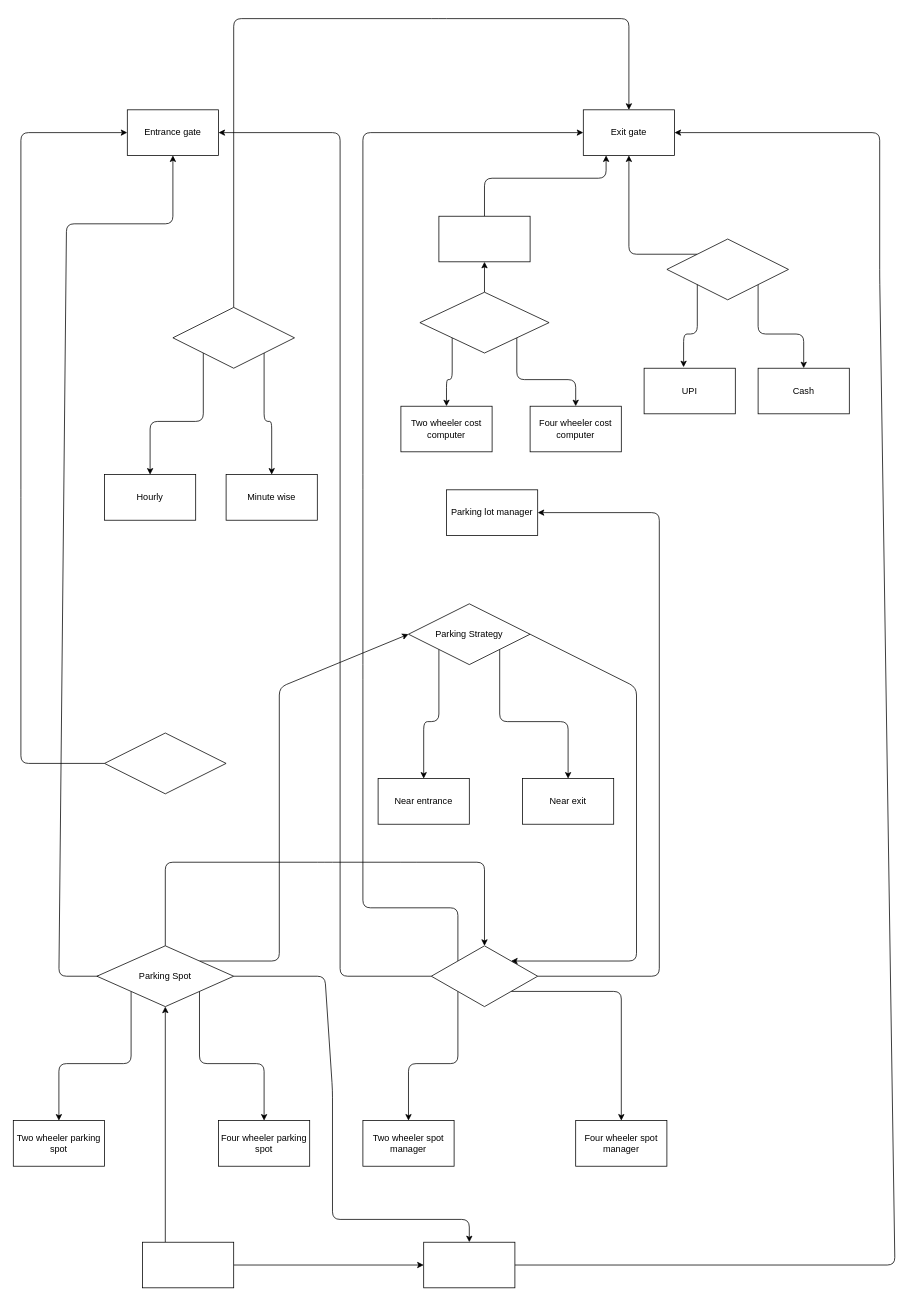
This 914x1301 diagram has some shape labels left out. The box of each missing label's shape, as (x1, y1, x2, y2) in pixels:
Cost computation factory: (438, 215, 530, 262)
Cost Computer: (419, 291, 549, 353)
Parking Spot factory: (104, 732, 226, 794)
Payment: (666, 238, 788, 300)
Pricing Strategy: (172, 307, 294, 368)
Spot Manager: (431, 945, 538, 1007)
Ticket: (423, 1241, 515, 1288)
Vehicle: (142, 1241, 234, 1288)
